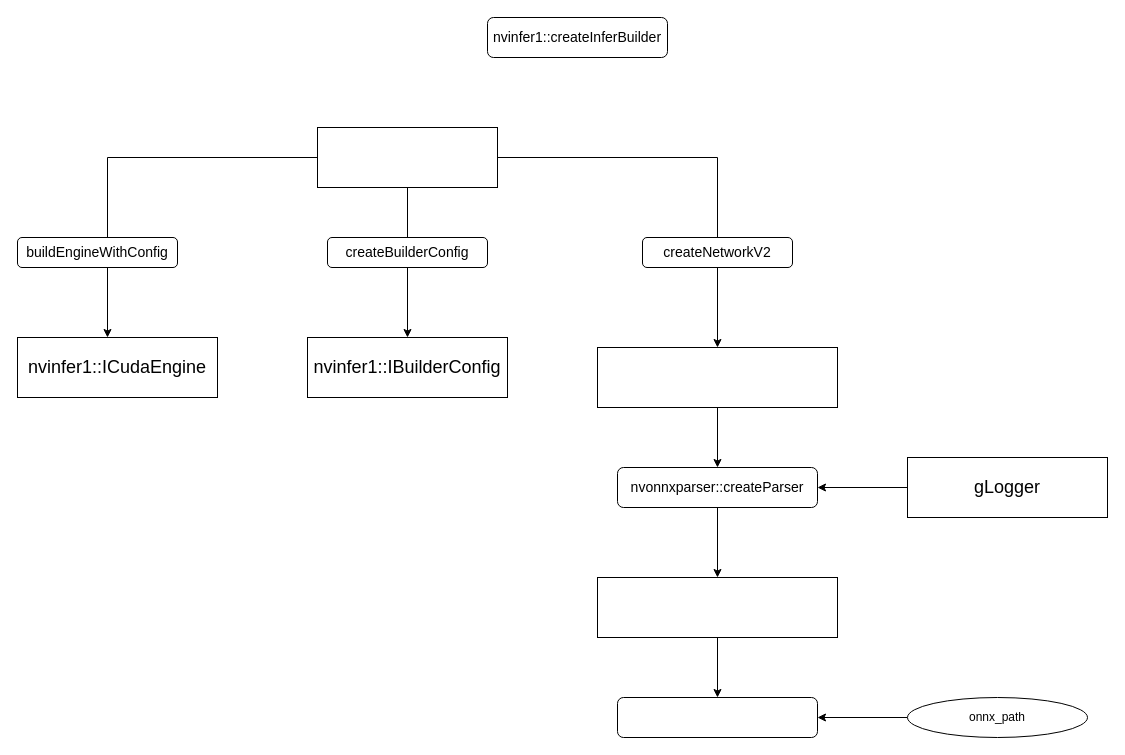
Image size: 1125x755. Some labels were removed from this diagram. The shapes that lost their labels are listed below. From the top down, each one's centre as x and y in pixels, then its label:
[407,157]: nvinfer1::IBuilder
[717,377]: nvinfer1::INetworkDefinition
[717,607]: nvonnxparser::IParser
[717,717]: parseFromFile
